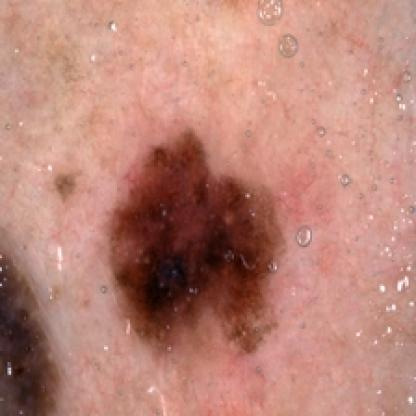Skin_Cancer-Malignant: (107, 128, 289, 366)
